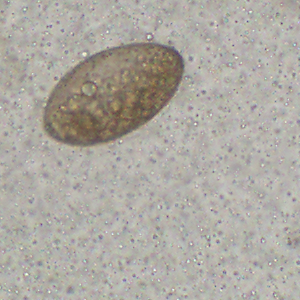Fasciola_hepatica_egg: (41, 42, 185, 146)
